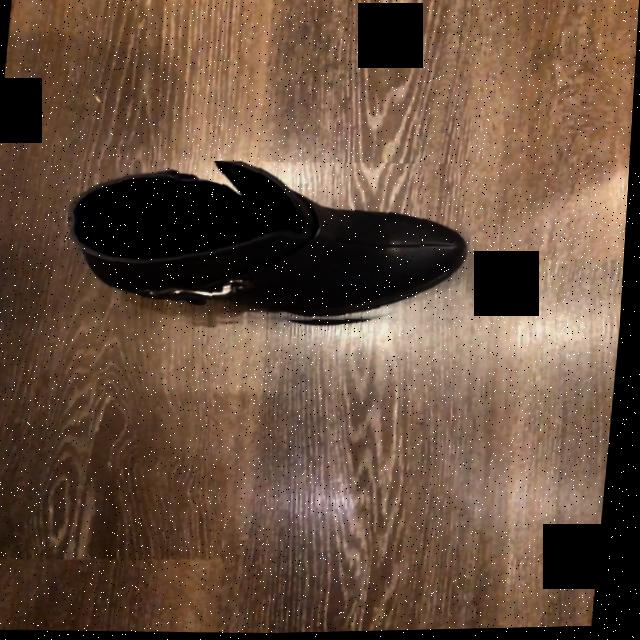shoe: (71, 162, 472, 323)
